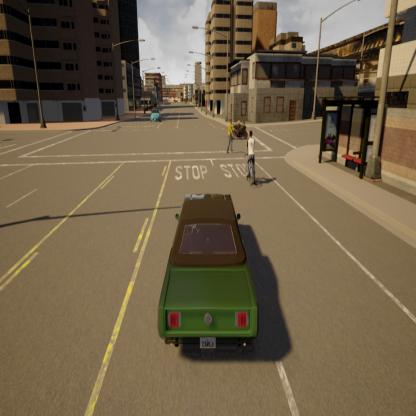Cars: (152, 181, 264, 371), (148, 107, 163, 125)
Pedestrian: (223, 113, 237, 158)
